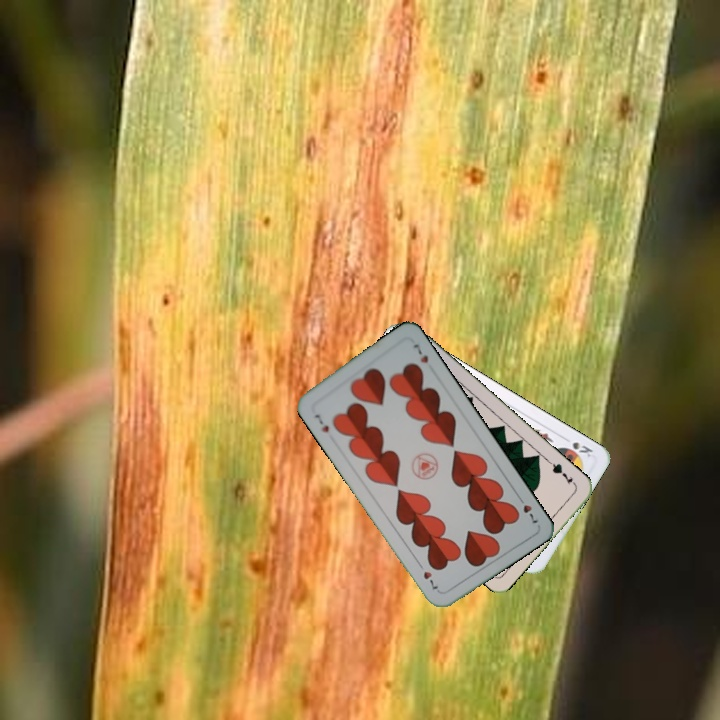G7: (545, 458, 579, 489)
H7: (513, 491, 541, 526), (310, 410, 332, 435)
SK: (559, 433, 596, 460)
